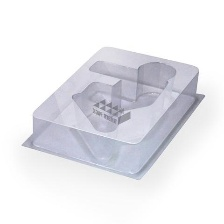plastic_box: (15, 39, 212, 184)
